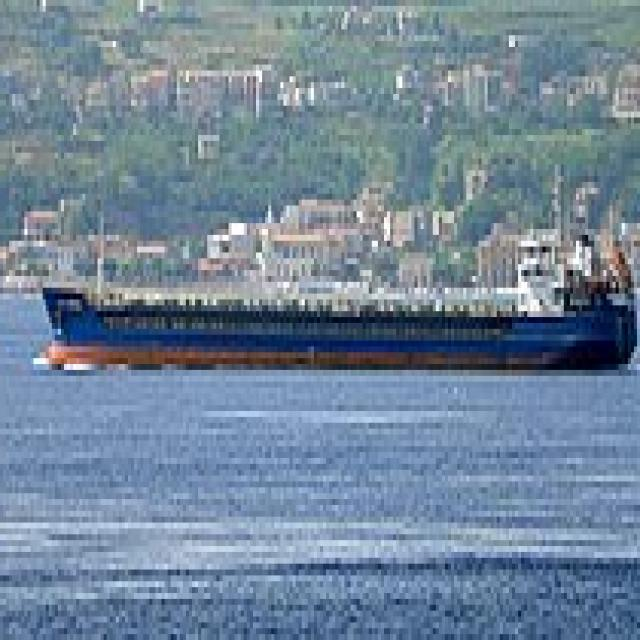Cargo: (40, 158, 640, 364)
